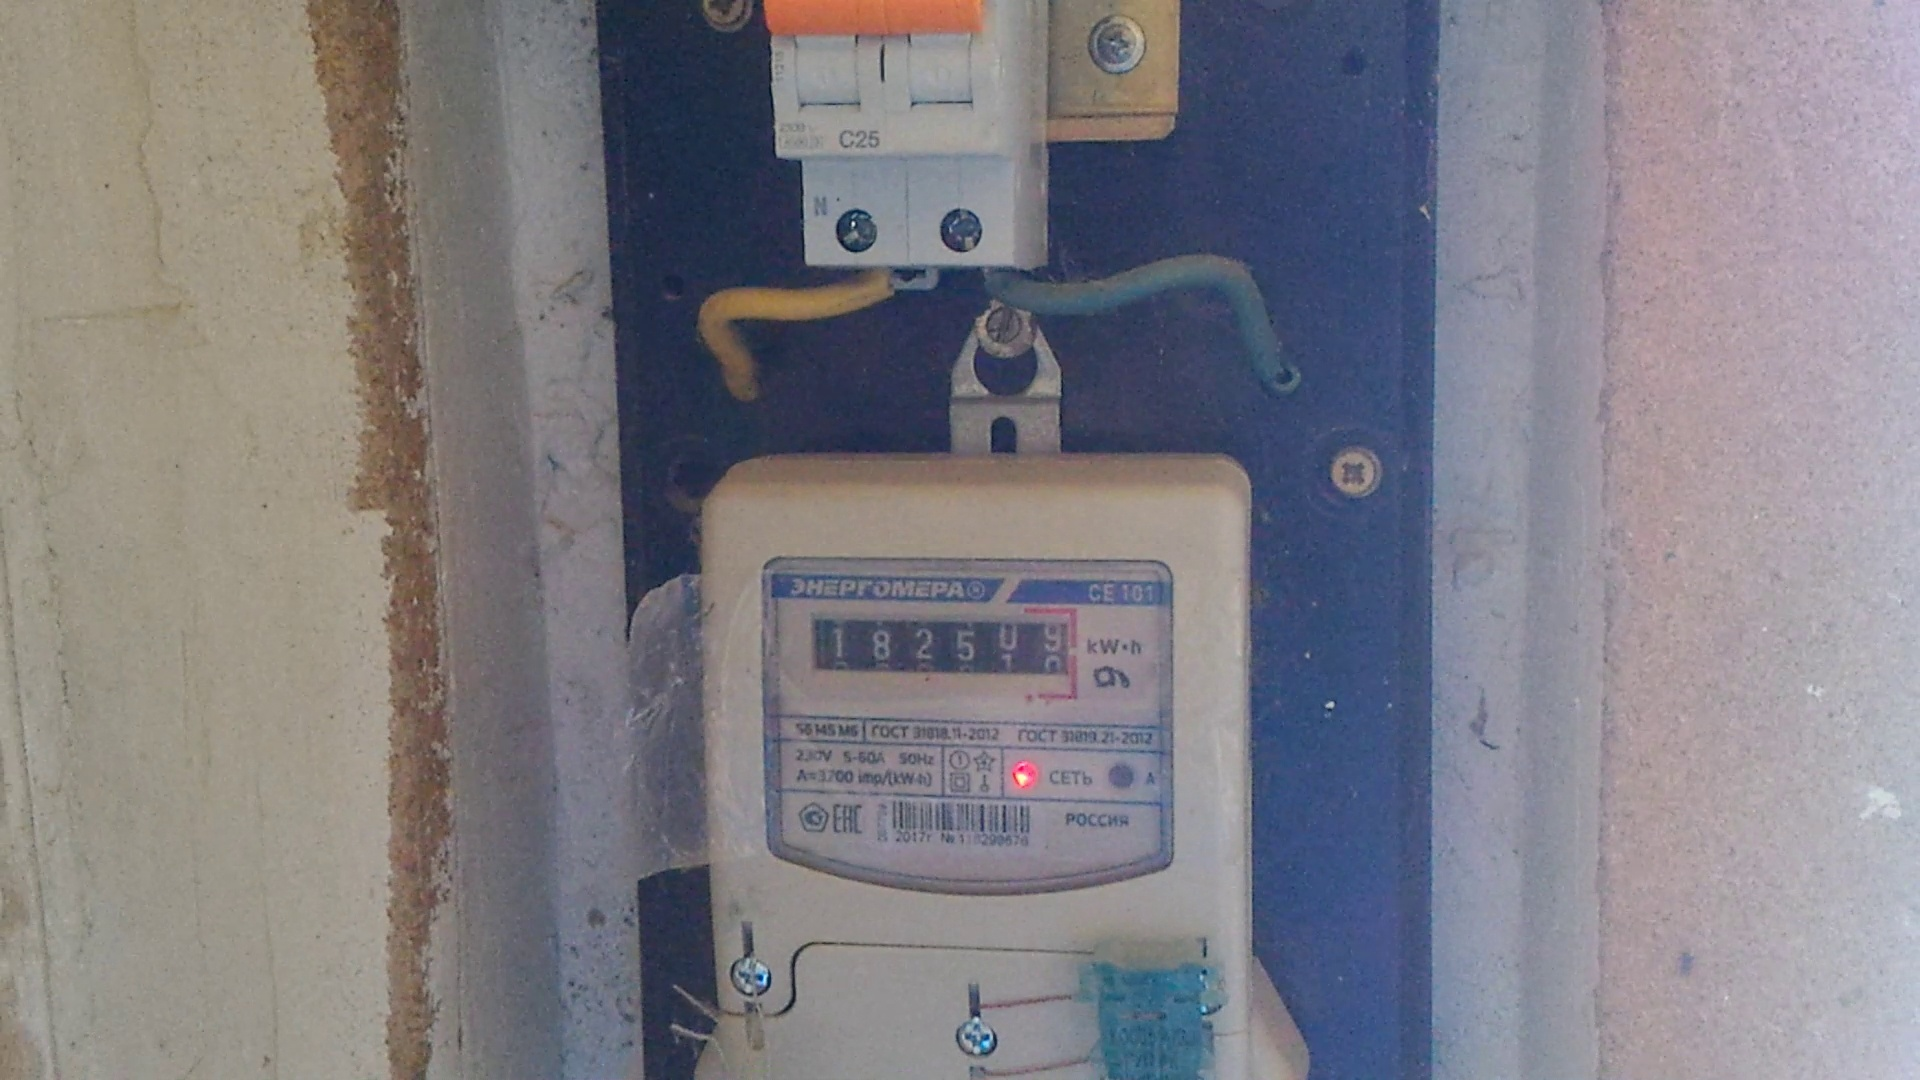counter: (703, 489, 1253, 1077)
counter_screen: (811, 615, 1071, 676)
